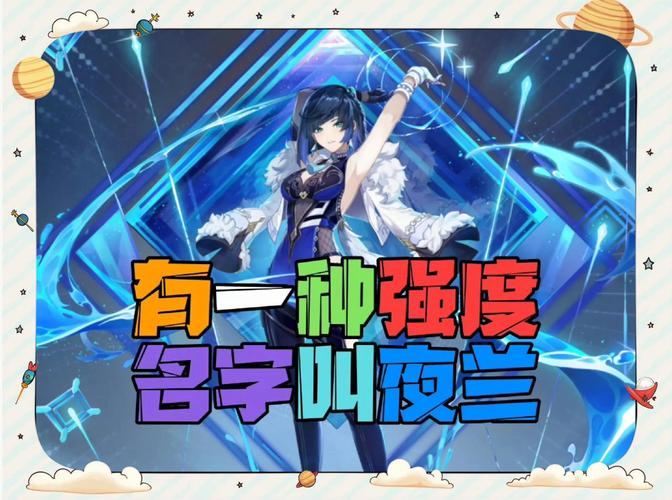夜兰: (192, 64, 448, 474)
